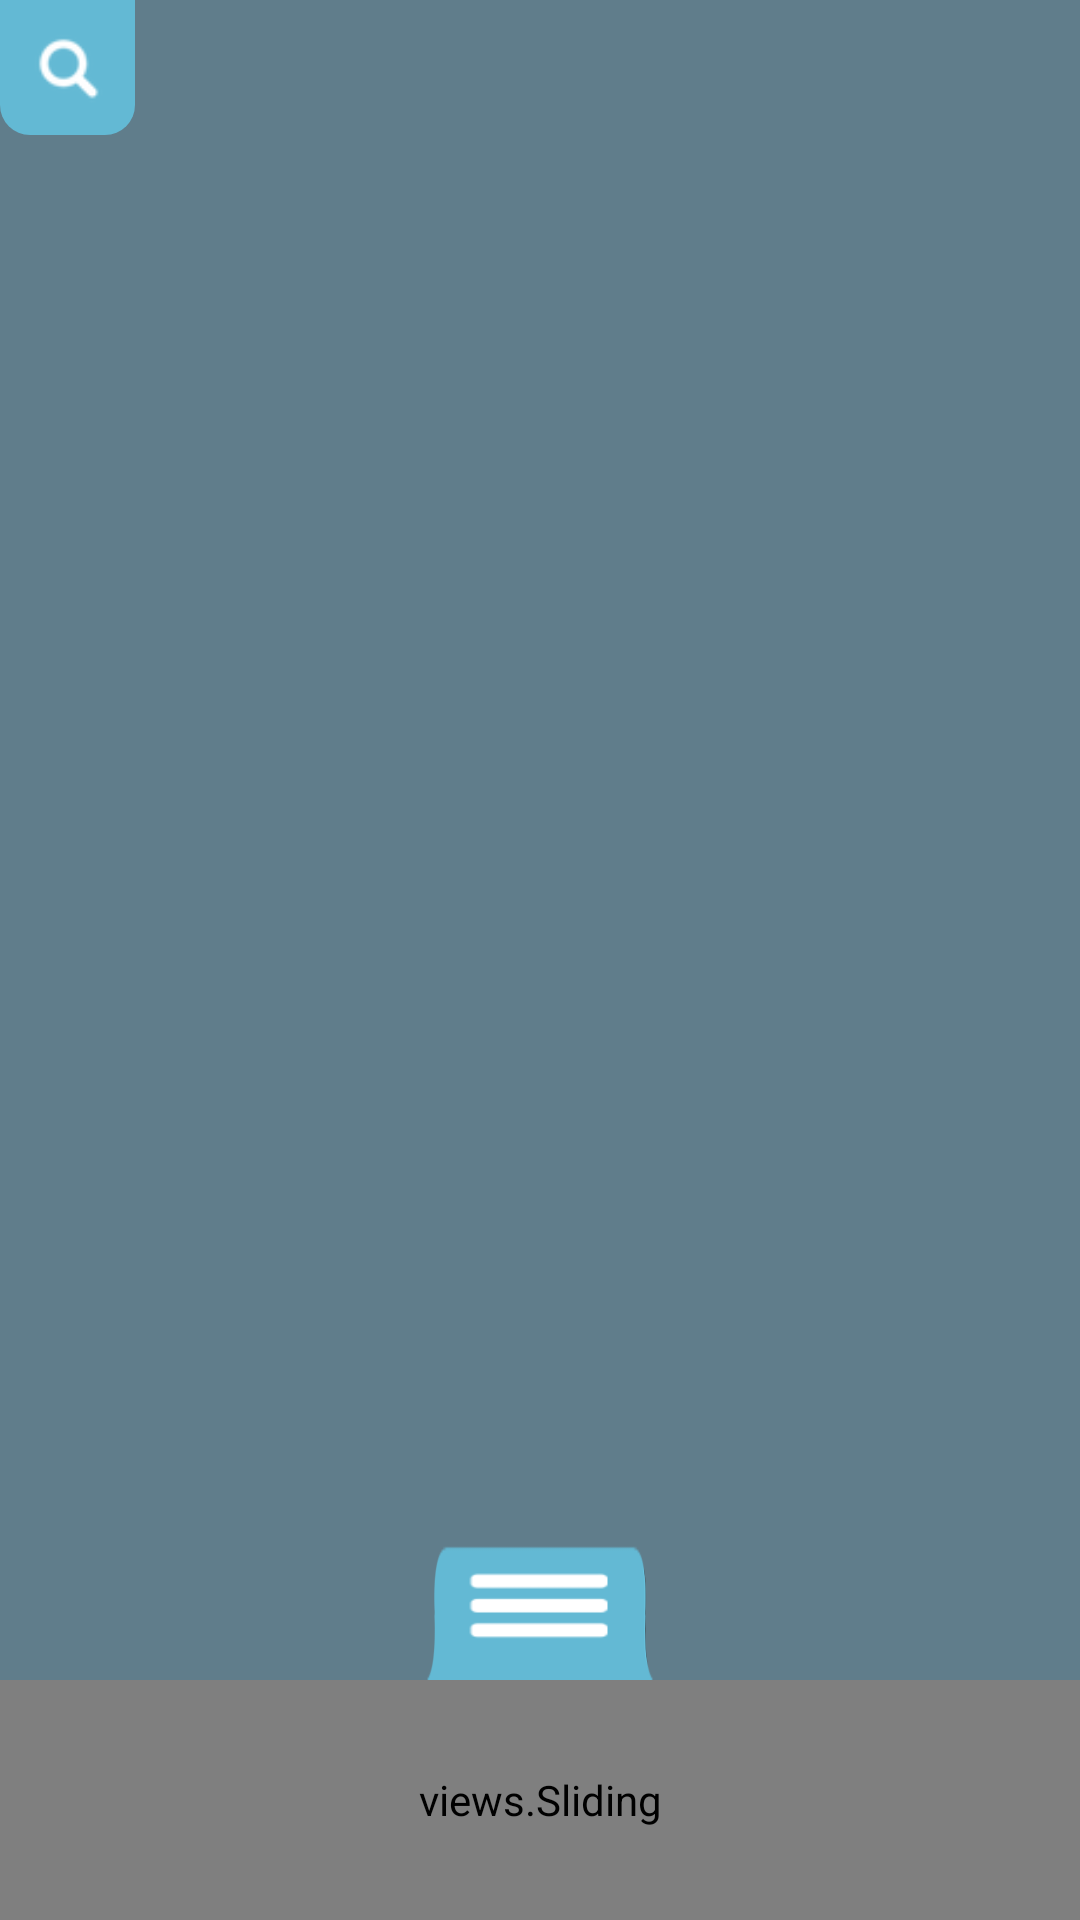

Icons on this 1080*1920 Android screen, each with its box as (x1, y1, x2, y2):
bar: (470, 1573, 608, 1638)
search: (0, 0, 135, 135)
